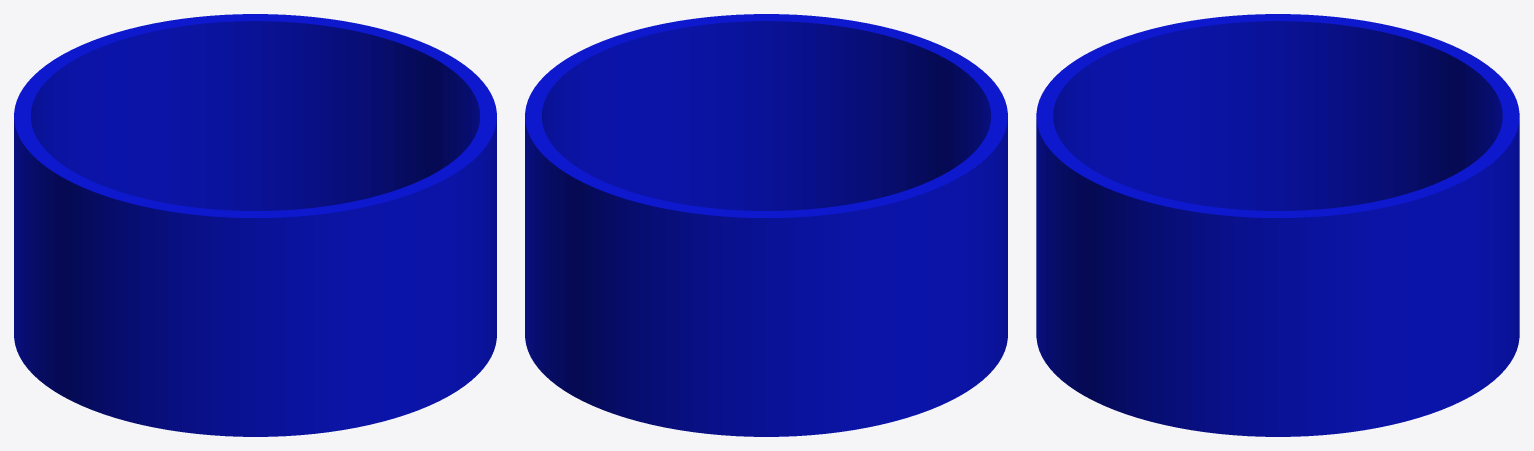
Rendered from blue_drum.dae.
3 renders of one model, left to right at view 1: azimuth 30°, elevation 25°; view 2: azimuth 150°, elevation 25°; view 3: azimuth 270°, elevation 25°, orthographic.
Visible parts, largest first — view 1: bucket; view 2: bucket; view 3: bucket.
Part boxes in pixels (x1,y1,x2,y2): bucket: (14, 14, 496, 436); bucket: (525, 14, 1007, 436); bucket: (1036, 14, 1519, 436).
Bounding box in the file's own units: 0.6 × 0.6 × 0.3.
